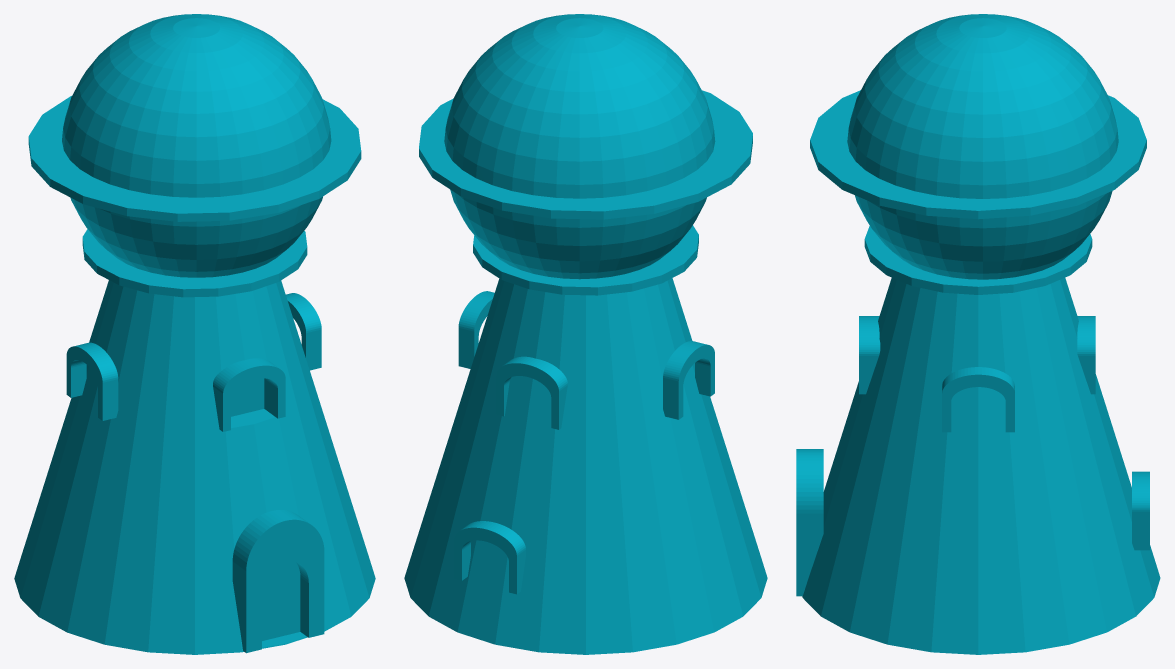
The model's file is Deposito de Agua.glb.
3 renders of one model, left to right at view 1: azimuth 30°, elevation 25°; view 2: azimuth 150°, elevation 25°; view 3: azimuth 270°, elevation 25°, orthographic.
Visible parts, largest first — view 1: Mesh_Mesh_head_geo.001_lambert2SG.001; view 2: Mesh_Mesh_head_geo.001_lambert2SG.001; view 3: Mesh_Mesh_head_geo.001_lambert2SG.001.
Part boxes in pixels (x1,y1,x2,y2): Mesh_Mesh_head_geo.001_lambert2SG.001: [14, 14, 375, 654]; Mesh_Mesh_head_geo.001_lambert2SG.001: [404, 14, 767, 654]; Mesh_Mesh_head_geo.001_lambert2SG.001: [796, 14, 1160, 654].
Size of the model in its own units: 0.04 by 0.068 by 0.04.
